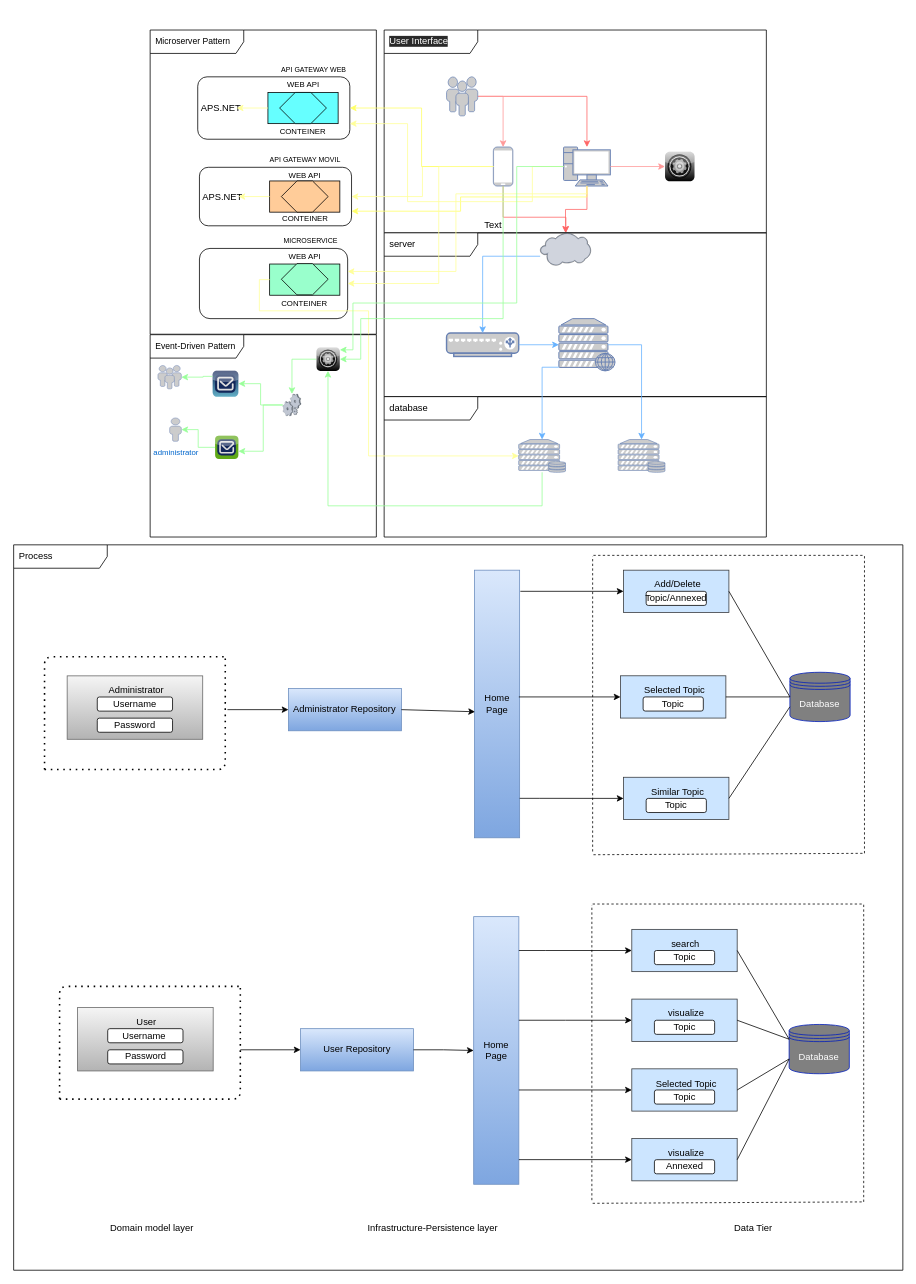
Image size: 916x1284. Some labels were removed from this diagram. Here are the shapes that lost their labels. From the top down, the centre of each, then its label:
At [679,166]: "Settings".
At [565,249]: "LAN".
At [327,358]: "events".
At [482,344]: "Load Balancer".
At [586,344]: "Server Web".
At [169,376]: "users".
At [291,405]: "event processes".
At [542,455]: "database of topics and annexes".
At [641,455]: "user database".
